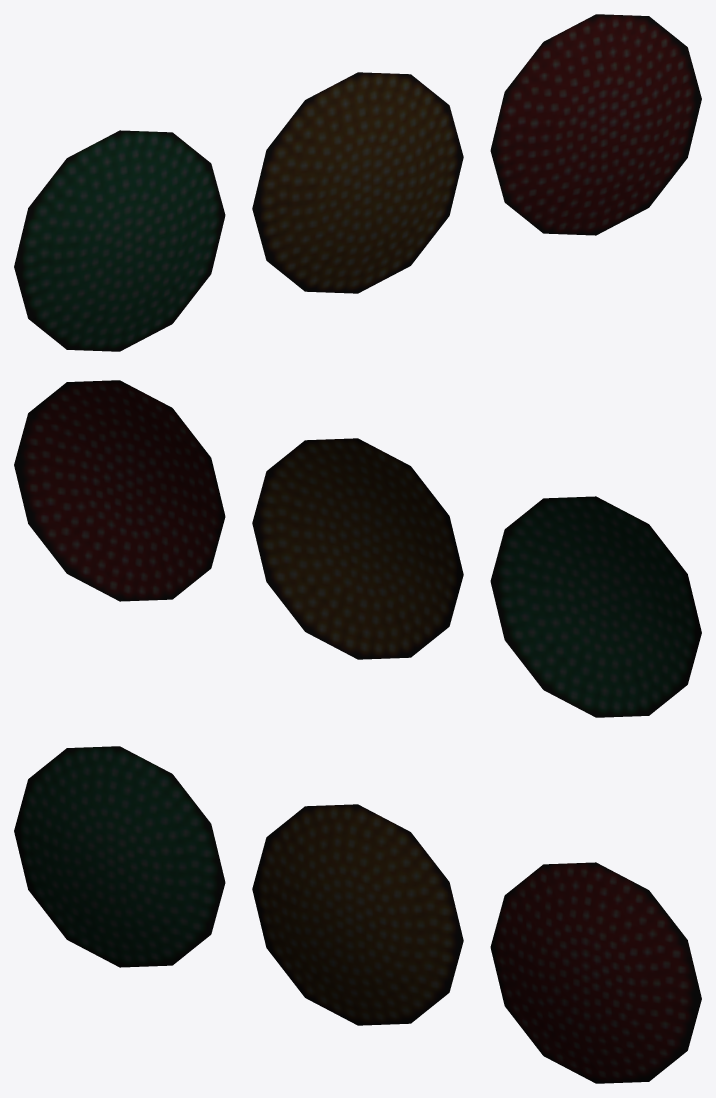
Rendered from Signal01_emmissive.fbx.
The picture shows the model from 3 angles, top to bottom: view 1: azimuth 30°, elevation 25°; view 2: azimuth 150°, elevation 25°; view 3: azimuth 330°, elevation 25°; orthographic projection.
Parts seen in each view (by area): view 1: Yellow, Blue, Red; view 2: Yellow, Blue, Red; view 3: Yellow, Blue, Red.
Part boxes in pixels (<box>): Yellow: <box>252,72,463,293</box>; Blue: <box>14,130,225,351</box>; Red: <box>490,14,701,235</box>; Yellow: <box>252,438,463,659</box>; Blue: <box>490,496,701,717</box>; Red: <box>14,380,225,601</box>; Yellow: <box>252,804,463,1025</box>; Blue: <box>14,746,225,967</box>; Red: <box>490,862,701,1083</box>.
Bounding box in the file's own units: 1.02 × 0.3151 × 0.0227.
